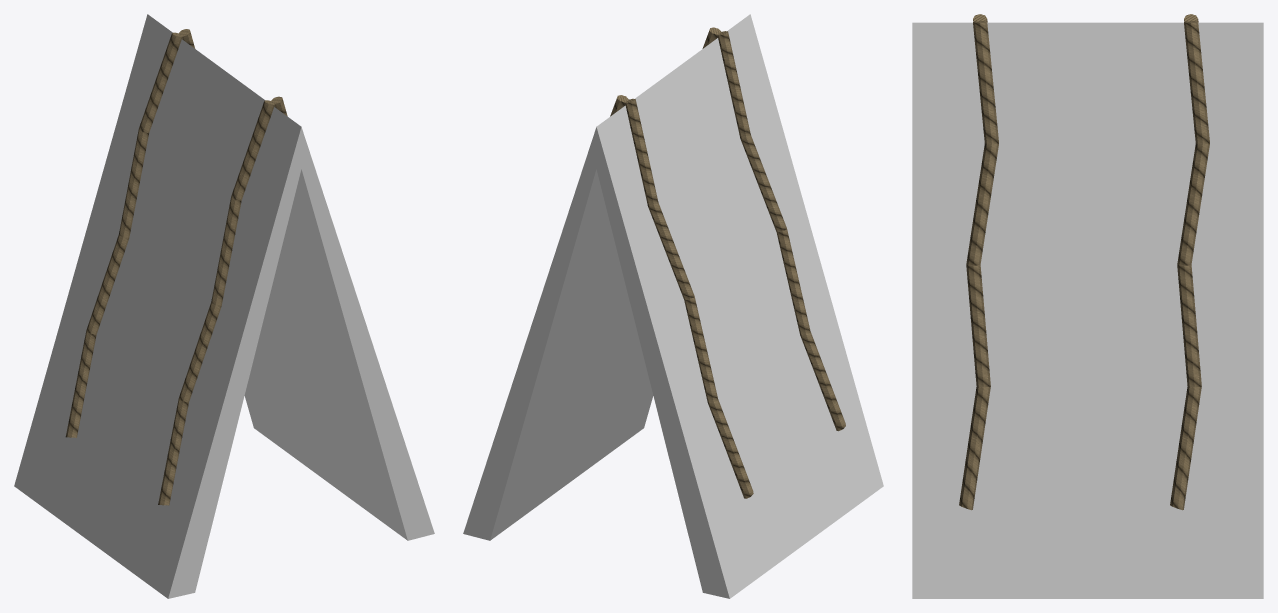
Rendered from slopskim.fbx.
3 renders of one model, left to right at view 1: azimuth 30°, elevation 25°; view 2: azimuth 150°, elevation 25°; view 3: azimuth 270°, elevation 25°, orthographic. The views are drawn at different scales.
Parts seen in each view (by area): view 1: Plane, Cylinder.002, Cylinder.003; view 2: Plane, Cylinder.002, Cylinder.003; view 3: Plane, Cylinder.001, Cylinder.
Boxes of the visible parts, x1,y1,x2,y2 form: Plane: (14, 14, 434, 598); Cylinder.002: (65, 32, 183, 437); Cylinder.003: (158, 100, 275, 505); Plane: (463, 14, 883, 598); Cylinder.002: (624, 98, 753, 498); Cylinder.003: (716, 31, 845, 431); Plane: (912, 22, 1263, 598); Cylinder.001: (959, 21, 998, 510); Cylinder: (1170, 21, 1209, 510).
Bounding box in the file's own units: 100 × 159 × 100.
2 materials, 1 textured.
